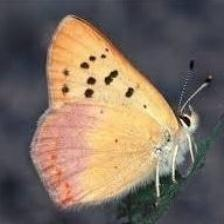butterfly: (31, 15, 199, 208)
